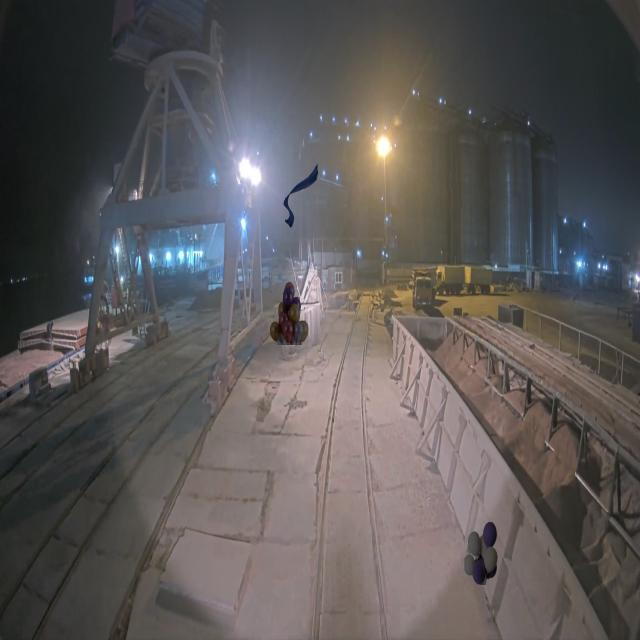balloon: (270, 281, 308, 345), (464, 521, 498, 585)
floating object: (283, 164, 318, 228)
